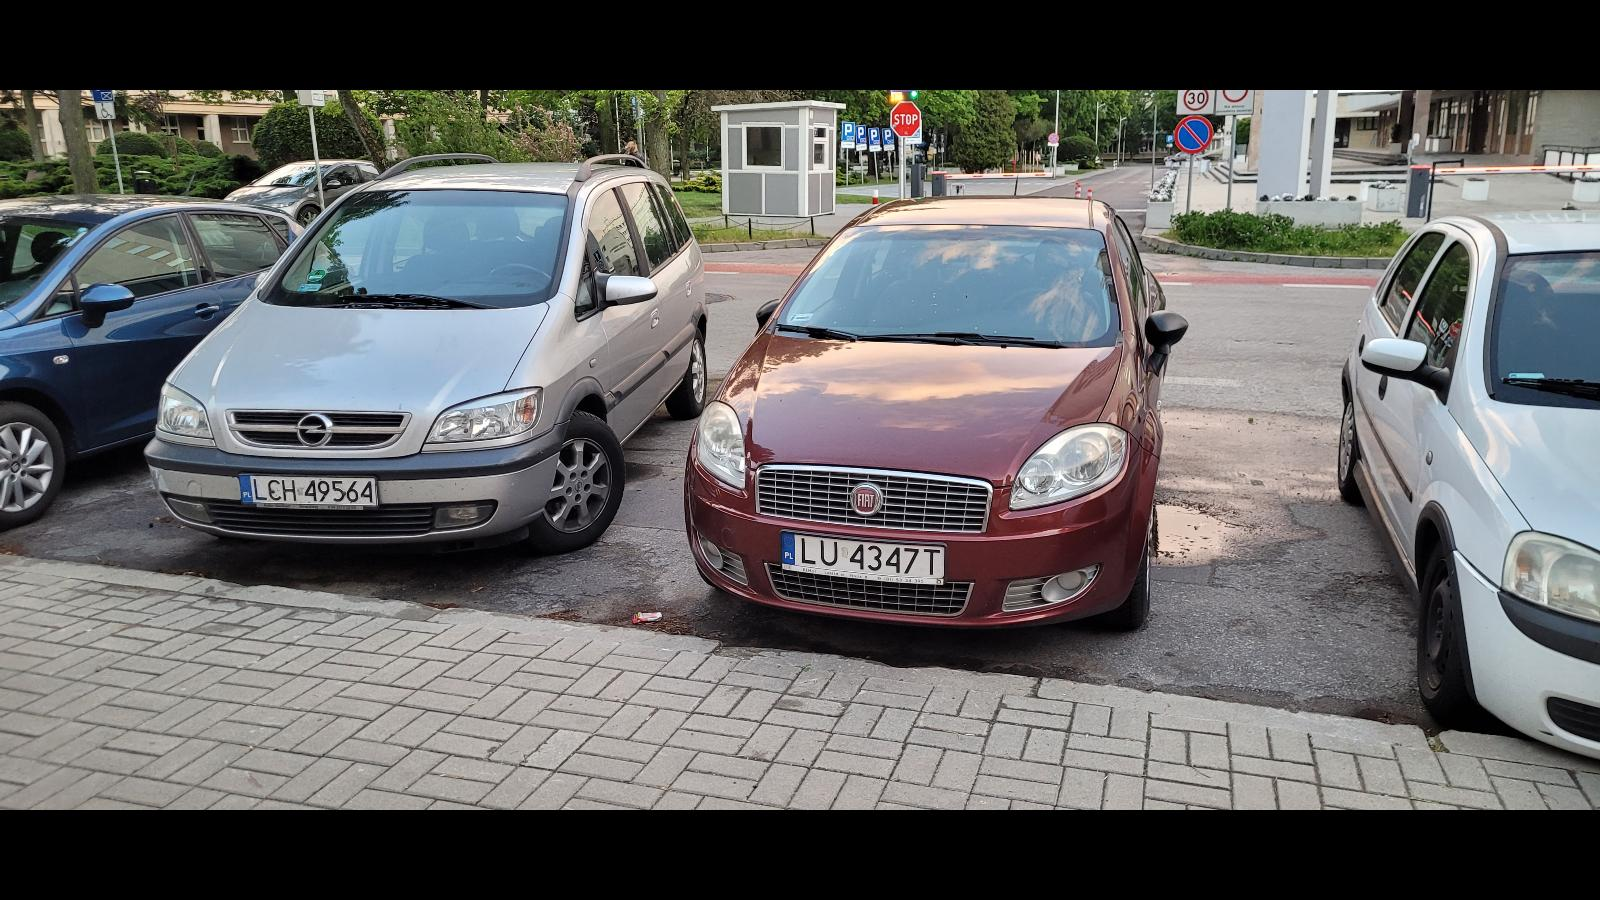plates: (780, 529, 948, 585), (238, 474, 378, 510)
